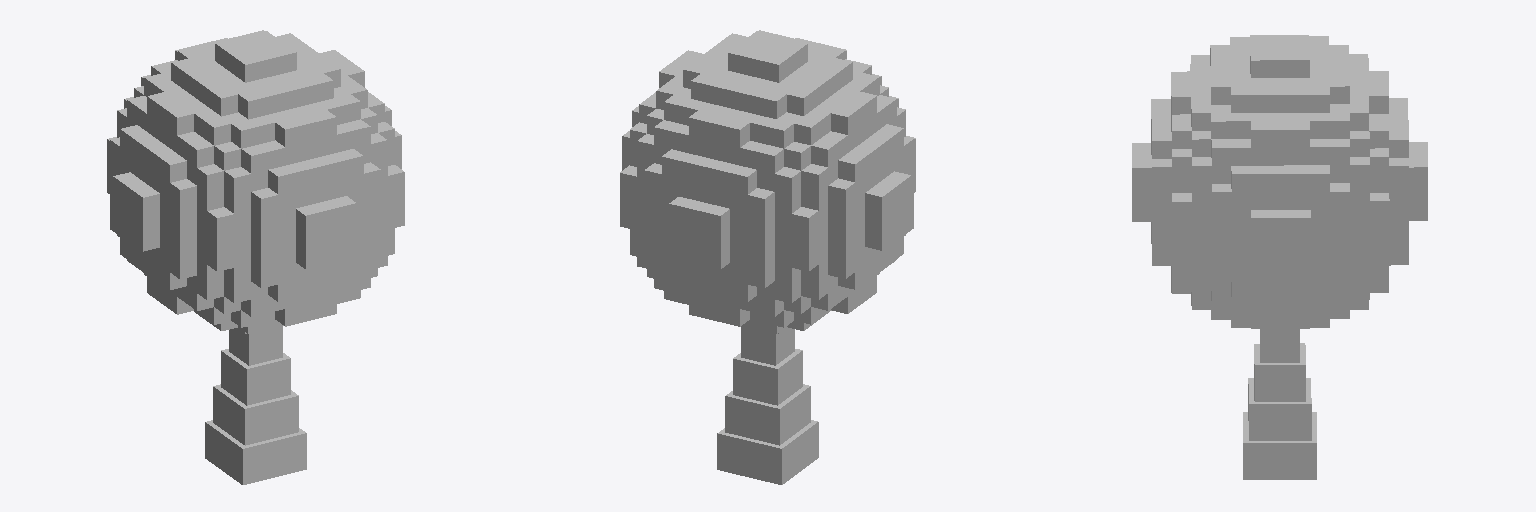
Rendered from tree2.obj.
The picture shows the model from 3 angles: view 1: azimuth 30°, elevation 25°; view 2: azimuth 150°, elevation 25°; view 3: azimuth 270°, elevation 25°; orthographic projection.
Parts seen in each view (by area): view 1: 球.036_球.045, 立方体.036; view 2: 球.036_球.045, 立方体.036; view 3: 球.036_球.045, 立方体.036.
Part boxes in pixels (left/top/right/bottom): 球.036_球.045: left=107, top=30, right=404, bottom=333; 立方体.036: left=205, top=326, right=306, bottom=484; 球.036_球.045: left=620, top=30, right=915, bottom=333; 立方体.036: left=717, top=326, right=818, bottom=484; 球.036_球.045: left=1132, top=35, right=1427, bottom=328; 立方体.036: left=1243, top=329, right=1316, bottom=479.
Bounding box in the file's own units: 2.09 × 3.23 × 2.09.